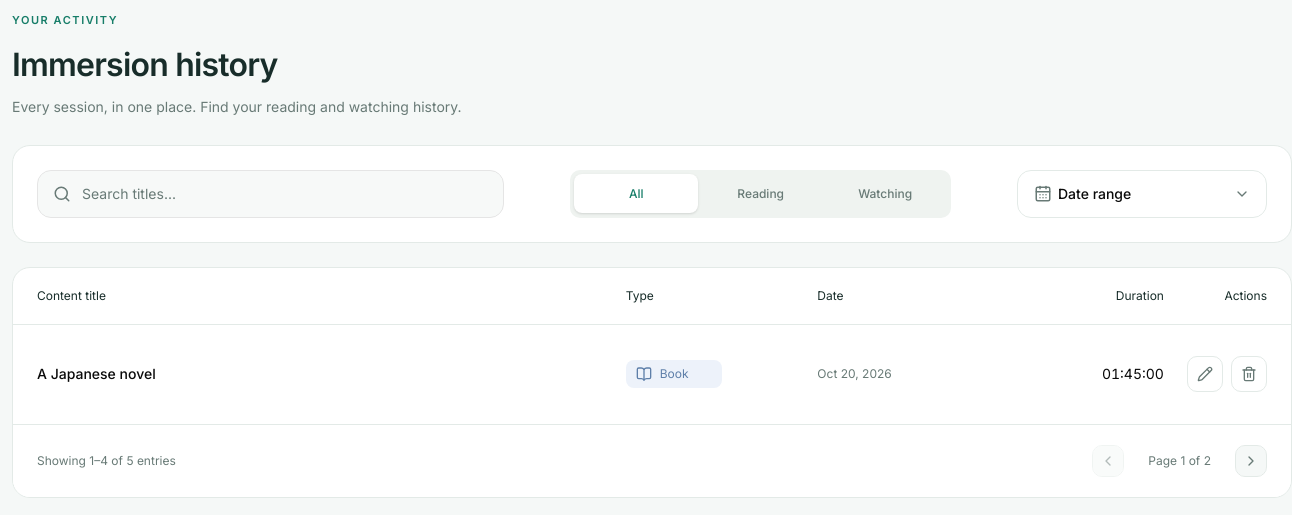
Test: History › uses server category filters and displays the corresponding results
The image size is (1292, 515).
Expected: the link "A Japanese novel" is shown, [37, 365, 156, 382]
Click the tab "Watching" at (885, 194), box [823, 174, 947, 213]
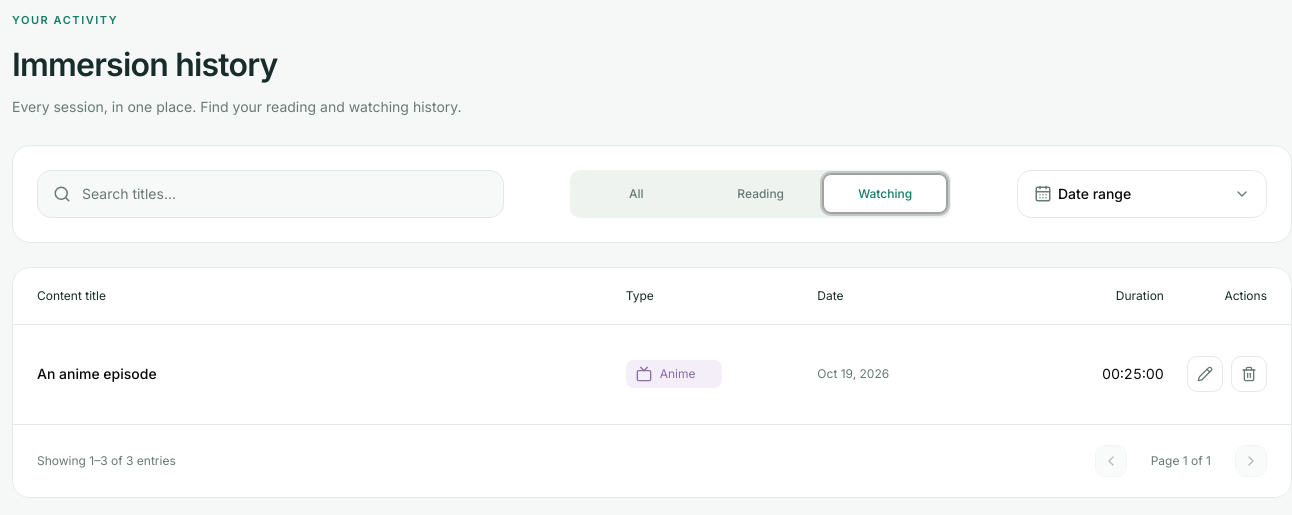
Now the link "An anime episode" is shown, box [37, 365, 157, 382]
Now the text "Showing 1–3 of 3 entries" is shown, box [37, 453, 176, 469]
Click the tab "Reading" at (761, 194), box [698, 174, 823, 213]
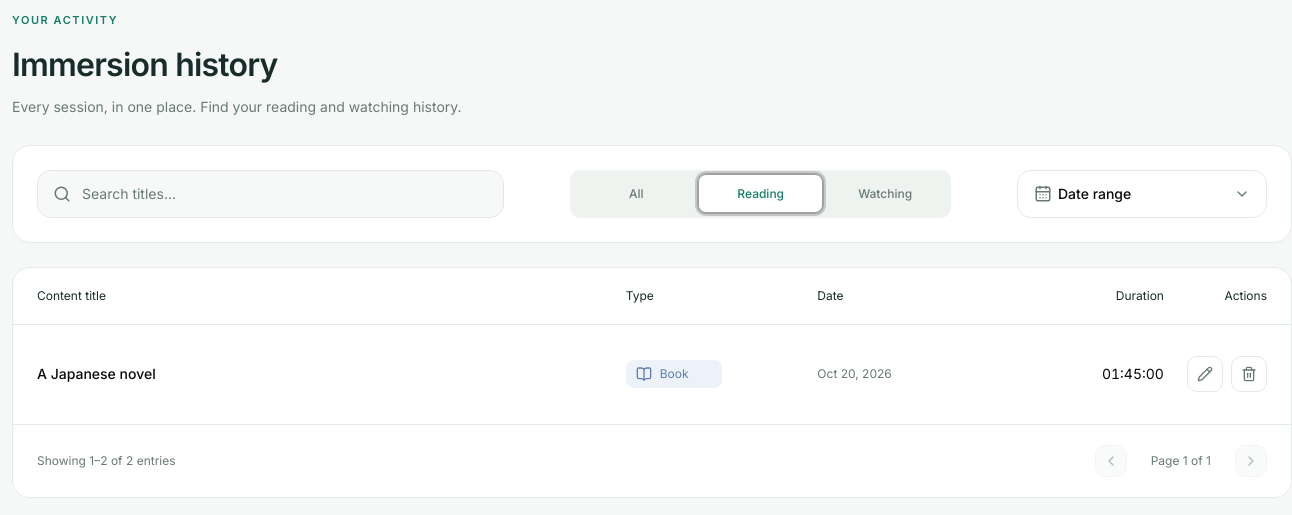
Now the link "A Japanese novel" is shown, box [37, 365, 156, 382]
Now the text "Showing 1–2 of 2 entries" is shown, box [37, 453, 176, 469]
